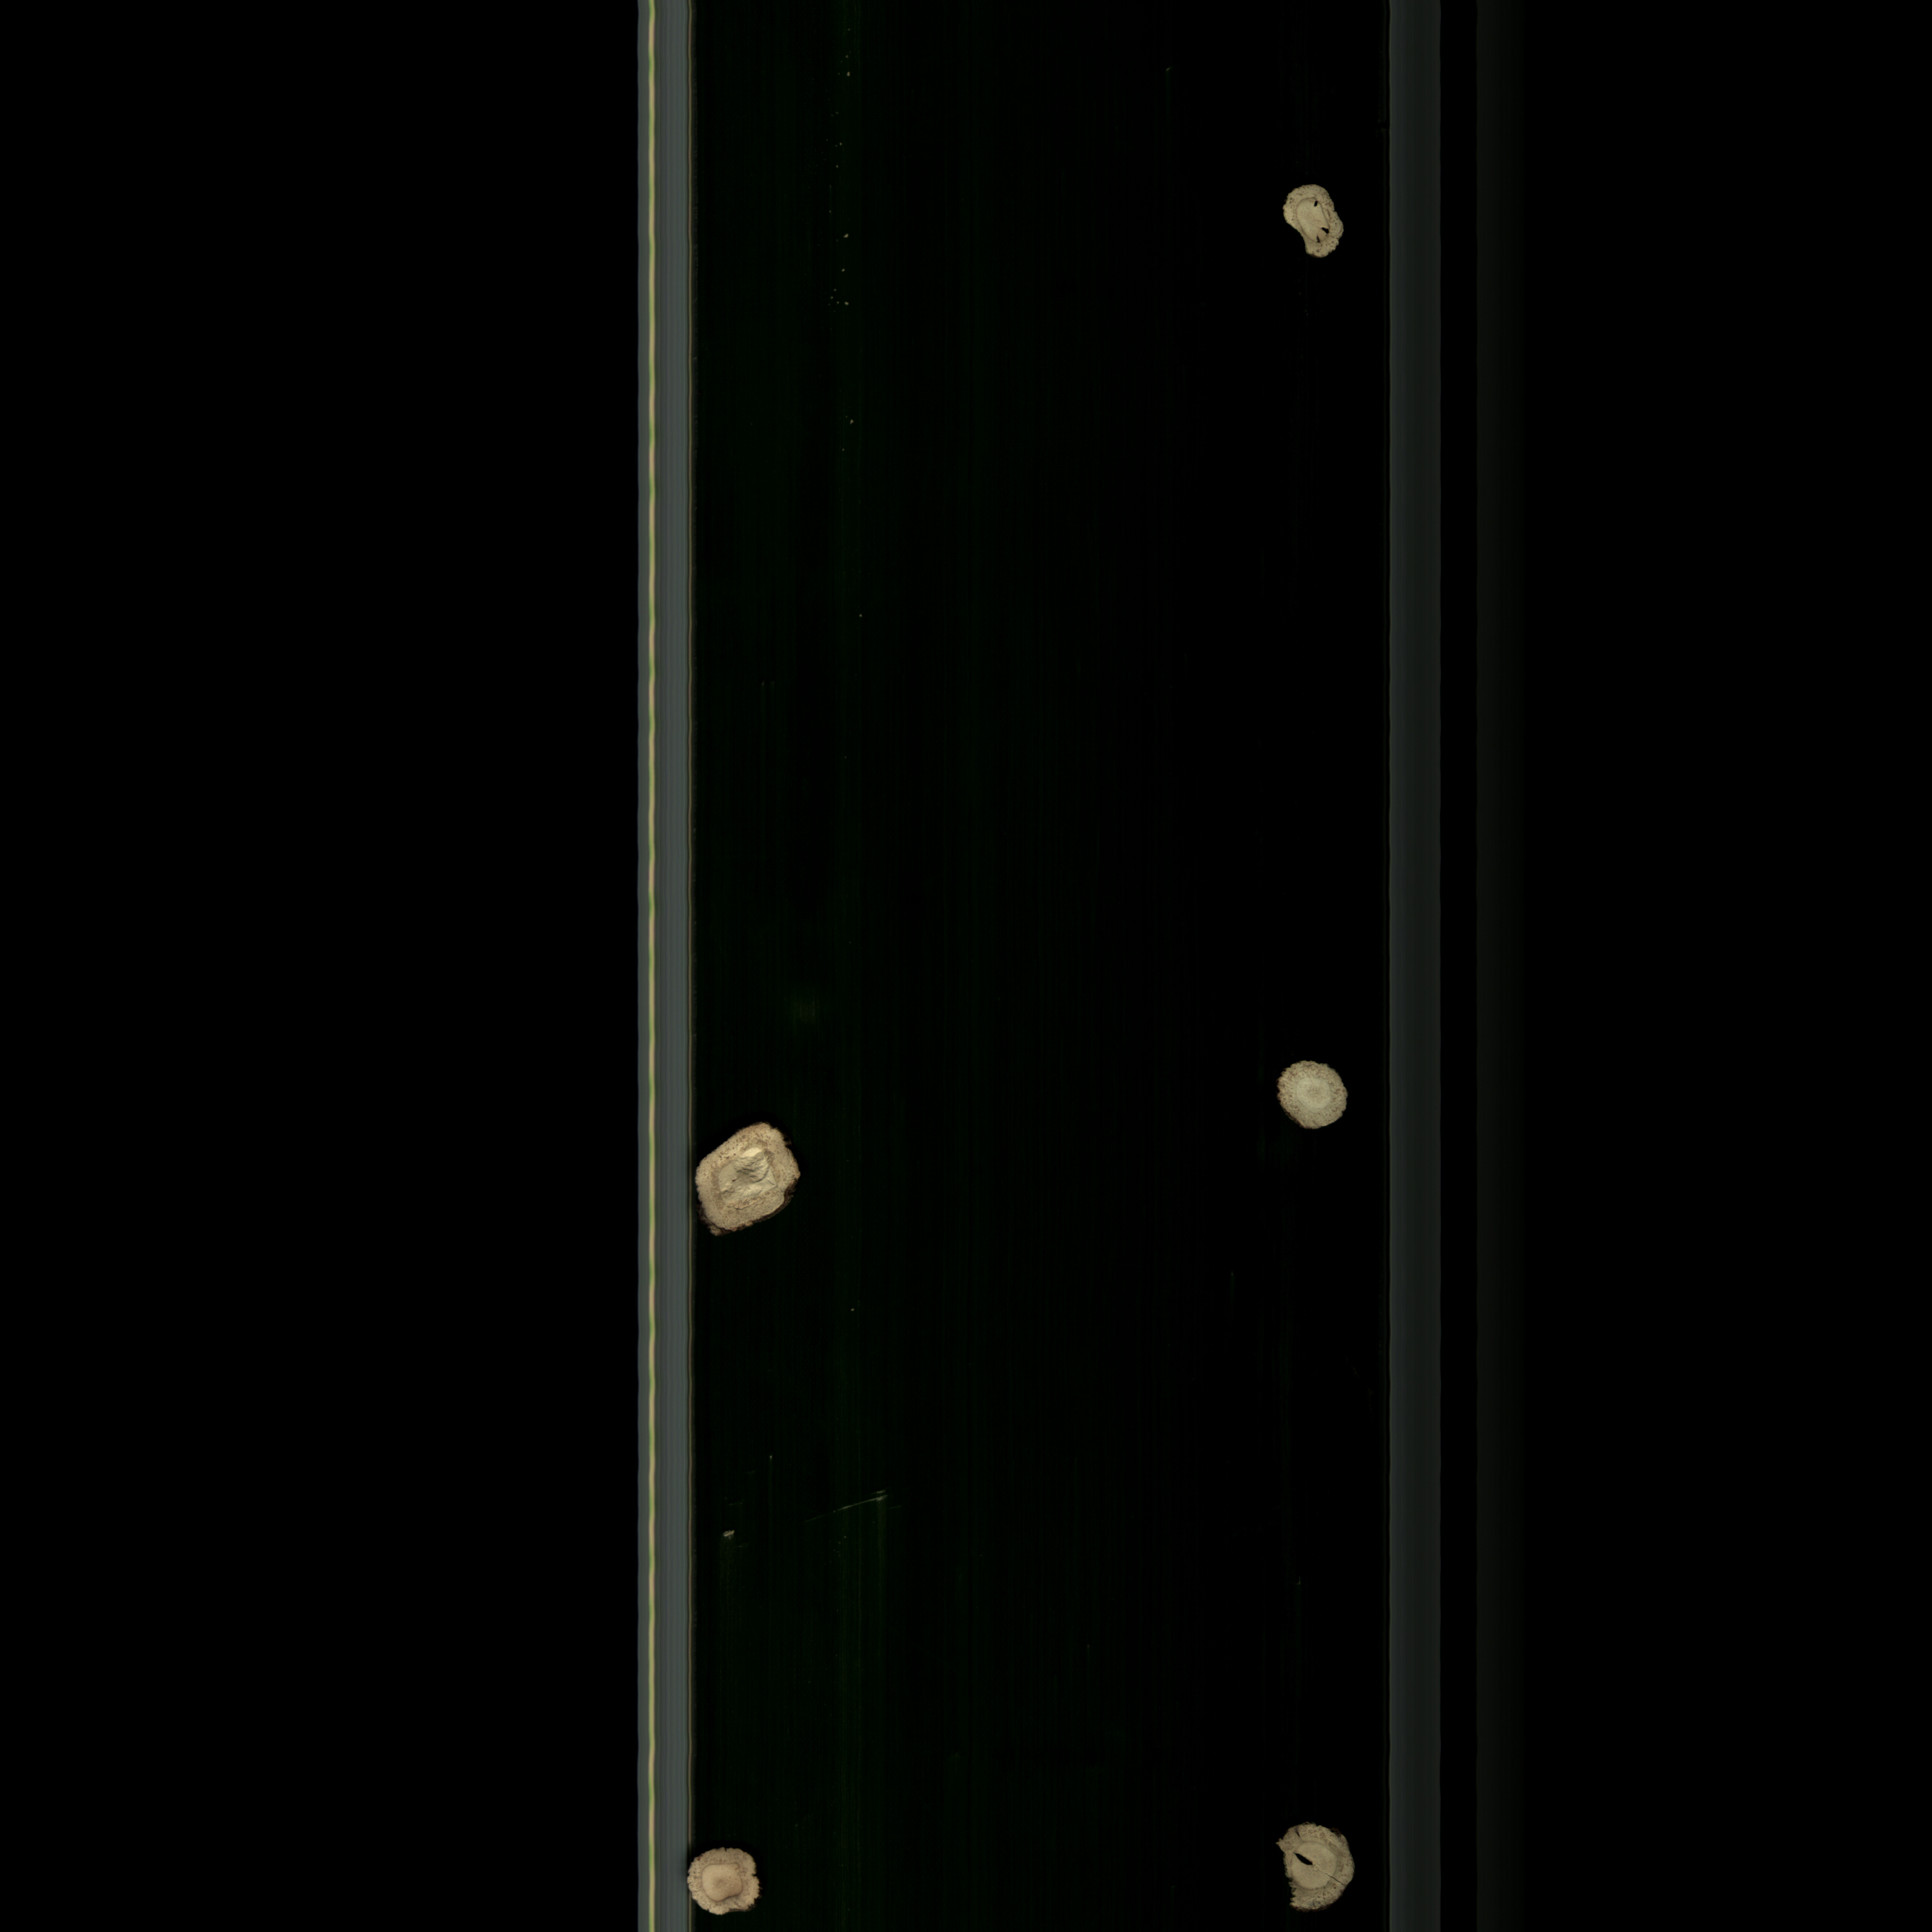hole: (1267, 1806, 1380, 1932), (1272, 168, 1350, 272)
moldy: (690, 1109, 812, 1253)
